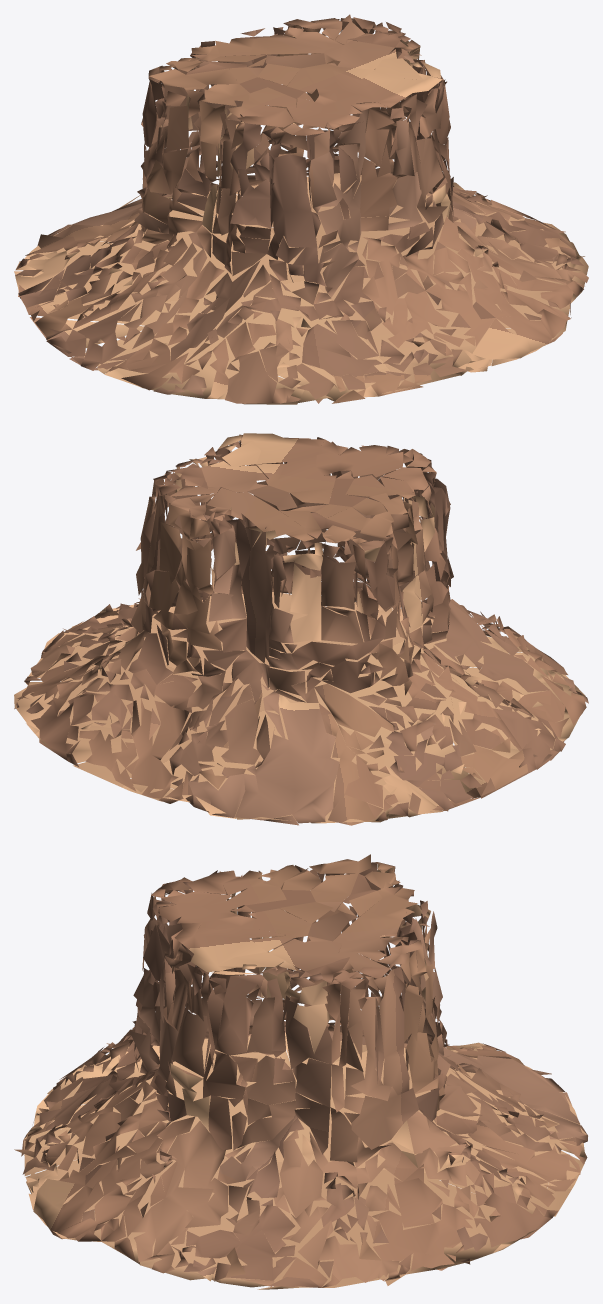
The model's file is mesa.glb.
3 renders of one model, top to bottom at view 1: azimuth 30°, elevation 25°; view 2: azimuth 150°, elevation 25°; view 3: azimuth 270°, elevation 25°, orthographic. The views are drawn at different scales.
Visible parts, largest first — view 1: LO.001; view 2: LO.001; view 3: LO.001.
Part boxes in pixels (<box>): LO.001: <box>14,14,588,404</box>; LO.001: <box>14,433,588,825</box>; LO.001: <box>14,854,588,1289</box>.
Size of the model in its own units: 0.9906 by 0.4396 by 0.9057.
1 material, 1 textured.
